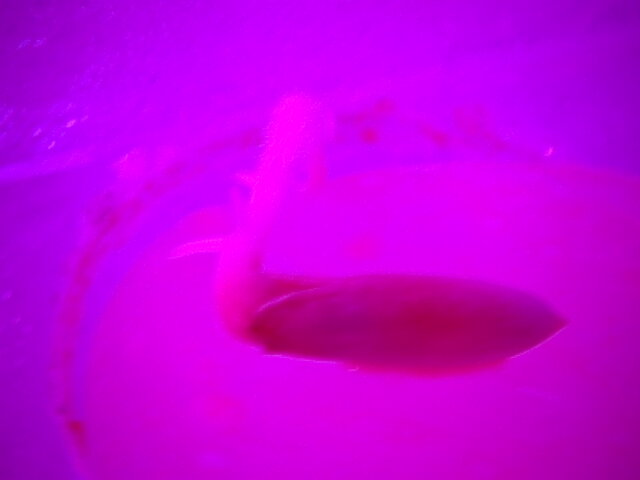sprout: (222, 125, 564, 384)
